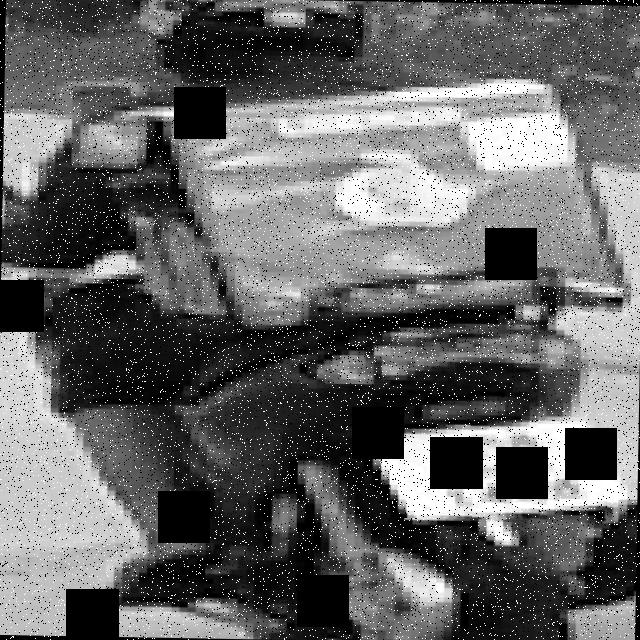letters: (510, 428, 548, 456), (470, 427, 504, 458), (556, 474, 590, 504), (432, 431, 462, 461), (441, 477, 466, 507), (480, 479, 504, 510), (512, 478, 539, 504)
license-plate: (369, 423, 618, 518)
province: (449, 456, 564, 478)
